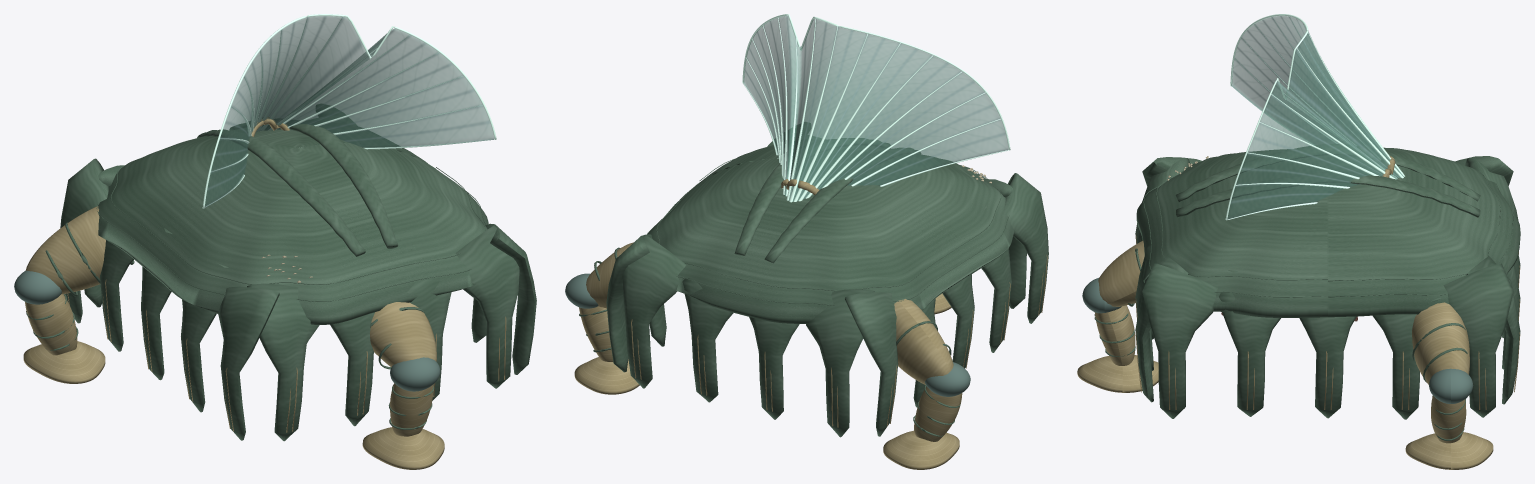
File: hogara.glb
3 renders of one model, left to right at view 1: azimuth 30°, elevation 25°; view 2: azimuth 150°, elevation 25°; view 3: azimuth 270°, elevation 25°, orthographic. The views are drawn at different scales.
Parts seen in each view (by area): view 1: Carapace, SailMembrane, DorsalKeel, Rib17, Rib14, Rib04, SailVeins, Upper0, Upper2, Rib15, Rib13, Foot2 (+12 smaller); view 2: Carapace, SailMembrane, SailVeins, Rib08, Rib05, DorsalKeel, Rib00, Rib04, Upper0, Rib07, Rib06, Rib09 (+11 smaller); view 3: Carapace, SailMembrane, Rib13, DorsalKeel, Rib09, SailVeins, Rib12, Upper1, Rib11, Rib10, Foot1, Upper2 (+14 smaller).
Part boxes in pixels (x1,y1,x2,y2): Carapace: (98,121,488,324); SailMembrane: (205,16,494,207); DorsalKeel: (197,121,398,256); Rib17: (455,225,519,388); Rib14: (247,283,319,441); Rib04: (218,286,279,440); SailVeins: (202,14,496,208); Upper0: (25,206,105,294); Upper2: (370,302,436,367); Rib15: (330,312,374,426); Rib13: (485,223,536,374); Foot2: (362,427,444,469); Carapace: (648,140,1014,324); SailMembrane: (743,15,1008,201); SailVeins: (742,14,1010,202); Rib08: (622,235,686,388); Rib05: (806,289,874,437); DorsalKeel: (734,138,920,263); Rib00: (845,292,898,436); Rib04: (1003,173,1048,323); Upper0: (894,299,953,384); Rib07: (682,278,733,402); Rib06: (749,317,799,419); Rib09: (606,234,652,372); Carapace: (1136,147,1520,317); SailMembrane: (1227,16,1403,219); Rib13: (1142,263,1217,418); DorsalKeel: (1176,144,1480,217); Rib09: (1443,263,1513,417); SailVeins: (1225,14,1404,220); Rib12: (1219,270,1280,416); Upper1: (1412,302,1469,384); Rib11: (1299,316,1356,418); Rib10: (1373,314,1419,419); Foot1: (1405,432,1493,469); Upper2: (1098,240,1144,306).
Bounding box in the file's own units: 10.38 × 8.36 × 9.72.
8 materials, 5 textured.
